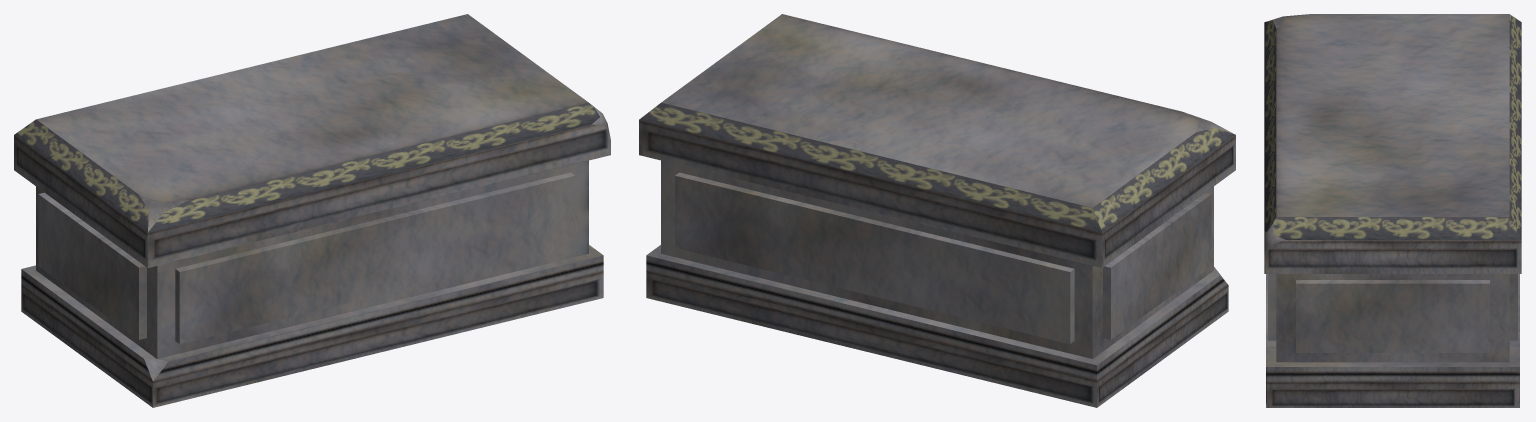
The model's file is altar_01.fbx.
3 views of the same model, side by side, from view 1: azimuth 30°, elevation 25°; view 2: azimuth 150°, elevation 25°; view 3: azimuth 270°, elevation 25° (orthographic). The views are drawn at different scales.
Parts seen in each view (by area): view 1: altar_01; view 2: altar_01; view 3: altar_01.
Boxes of the visible parts, x1,y1,x2,y2 form: altar_01: [14, 14, 610, 407]; altar_01: [639, 14, 1235, 407]; altar_01: [1264, 14, 1521, 407].
Bounding box in the file's own units: 300 × 120 × 150.
